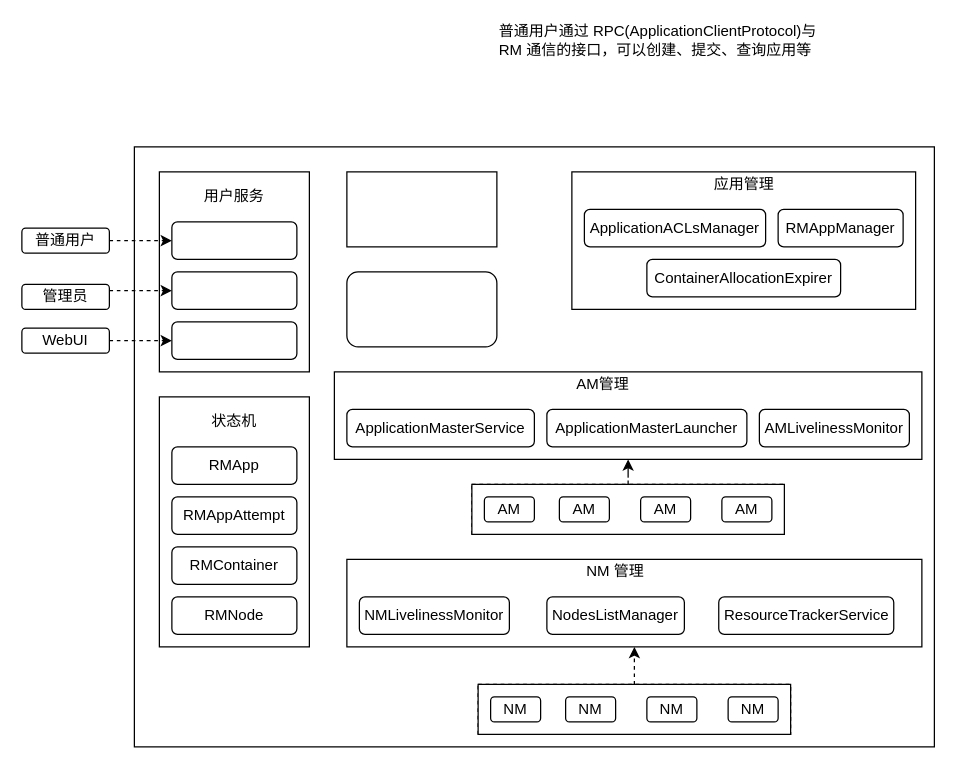
The diagram is 956 pixels wide and 769 high, and some of its shapes have lost their labels. The centre of each missing label's shape, as x and y in pixels:
"AdminService" belongs at [234,290].
"ClientRMService" belongs at [234,240].
"ResourceScheduler" belongs at [421,309].
"RMWebApp" belongs at [234,340].
"安全相关" belongs at [421,209].
